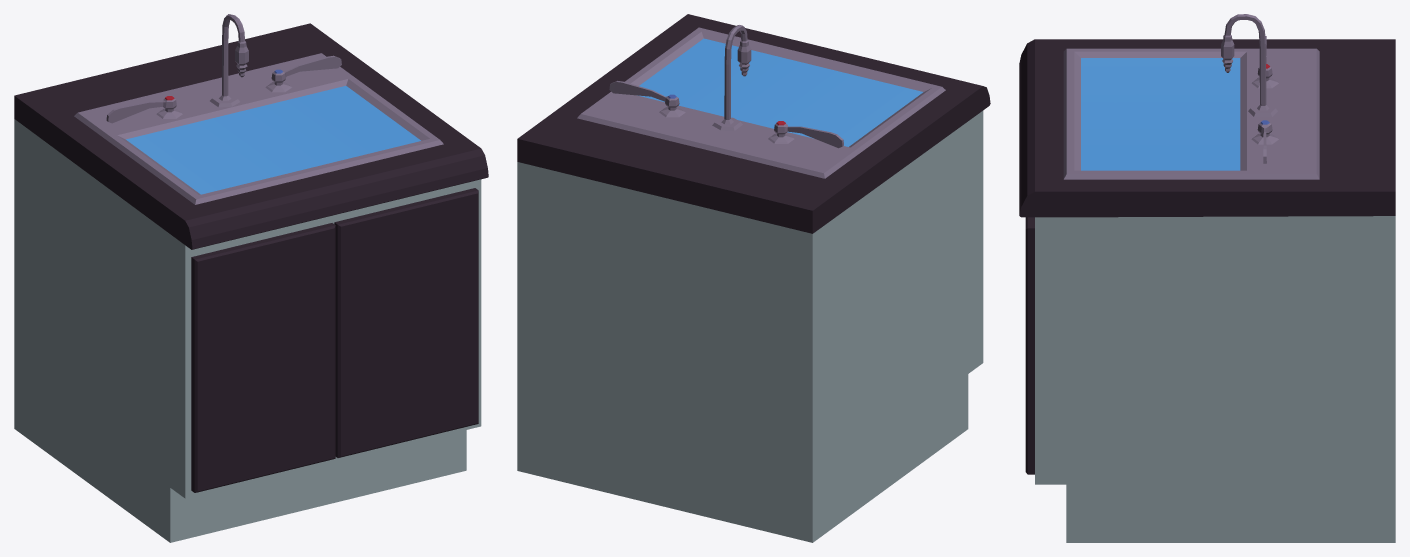
Rendered from Counter_Sink.fbx.
3 renders of one model, left to right at view 1: azimuth 30°, elevation 25°; view 2: azimuth 150°, elevation 25°; view 3: azimuth 270°, elevation 25°, orthographic. The views are drawn at different scales.
Visible parts, largest first — view 1: Counter.Sink, Counter.Sink.Water, Counter.Sink.HTap, Counter.Sink.CTap; view 2: Counter.Sink, Counter.Sink.Water, Counter.Sink.HTap, Counter.Sink.CTap; view 3: Counter.Sink, Counter.Sink.Water.
Part boxes in pixels (bbox=[...]): Counter.Sink: bbox=[14, 14, 488, 542]; Counter.Sink.Water: bbox=[126, 86, 420, 194]; Counter.Sink.HTap: bbox=[106, 96, 176, 123]; Counter.Sink.CTap: bbox=[271, 55, 341, 82]; Counter.Sink: bbox=[517, 14, 990, 542]; Counter.Sink.Water: bbox=[637, 38, 923, 146]; Counter.Sink.HTap: bbox=[774, 121, 843, 148]; Counter.Sink.CTap: bbox=[609, 80, 679, 107]; Counter.Sink: bbox=[1019, 14, 1395, 542]; Counter.Sink.Water: bbox=[1081, 58, 1240, 170].
Bounding box in the file's own units: 300 × 415 × 313.
